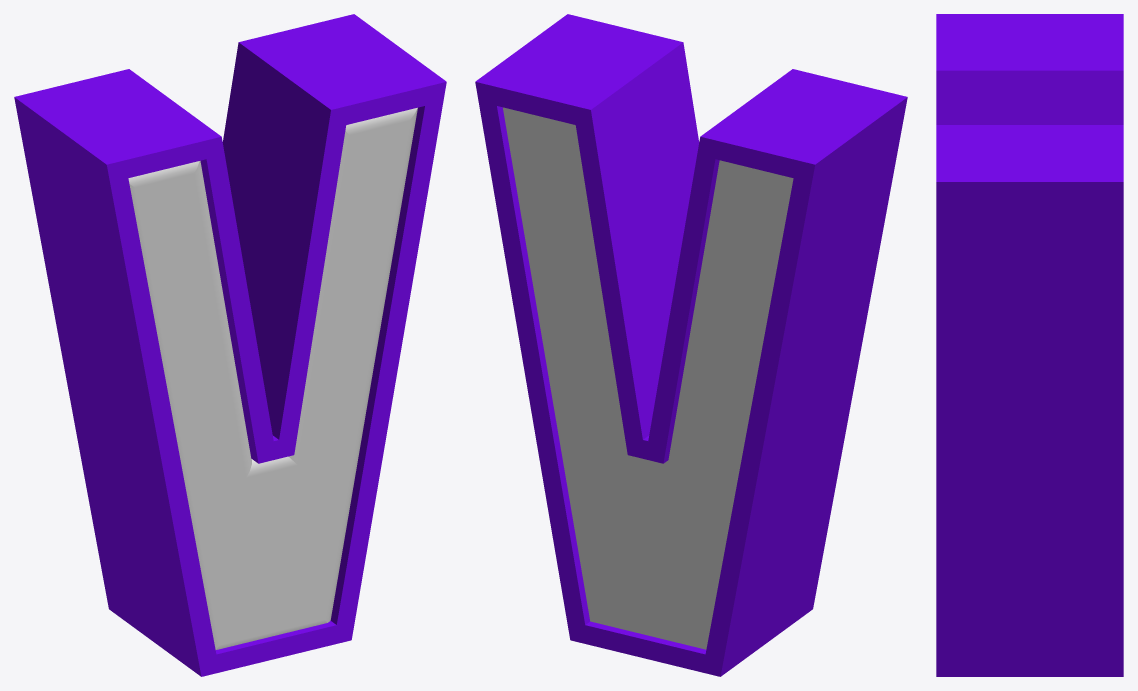
The picture shows the model from 3 angles, left to right: view 1: azimuth 30°, elevation 25°; view 2: azimuth 150°, elevation 25°; view 3: azimuth 270°, elevation 25°; orthographic projection.
Visible parts, largest first — view 1: Extrusion Model.000, Extrusion Model; view 2: Extrusion Model.000, Extrusion Model; view 3: Extrusion Model.000.
Part boxes in pixels (bbox=[...]): Extrusion Model.000: bbox=[14, 14, 446, 676]; Extrusion Model: bbox=[128, 107, 417, 649]; Extrusion Model.000: bbox=[475, 14, 907, 676]; Extrusion Model: bbox=[502, 107, 793, 649]; Extrusion Model.000: bbox=[936, 14, 1123, 676].
Size of the model in its own units: 10.11 by 15.21 by 4.77.
